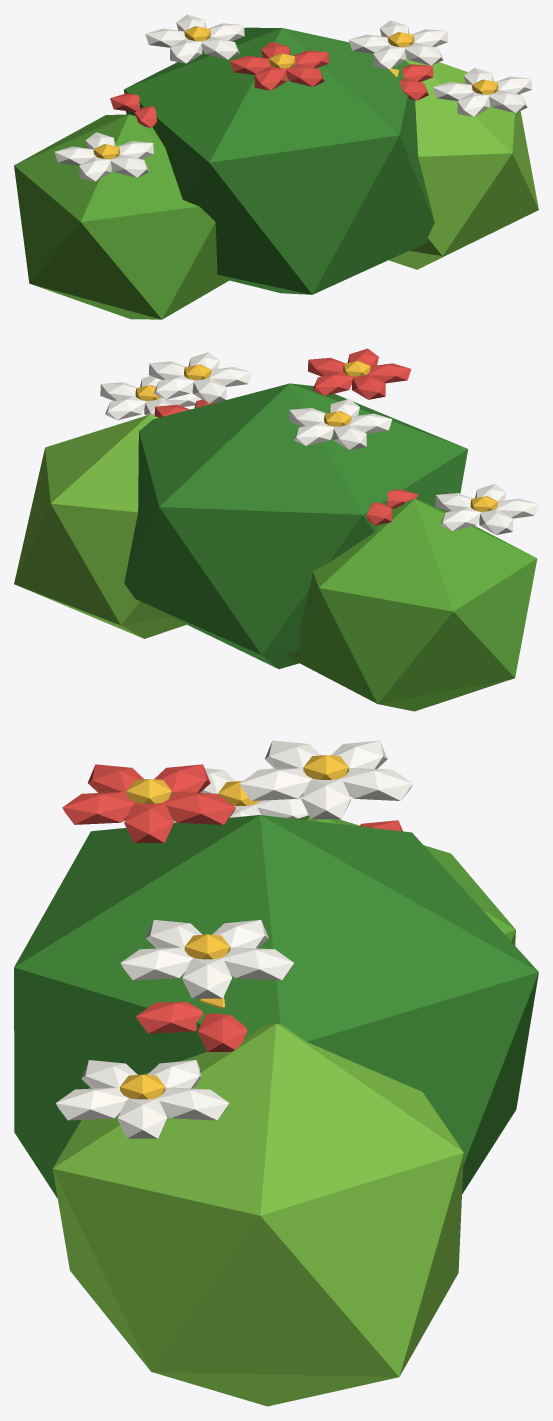
Rendered from shrub_flowering.glb.
3 renders of one model, top to bottom at view 1: azimuth 30°, elevation 25°; view 2: azimuth 150°, elevation 25°; view 3: azimuth 270°, elevation 25°, orthographic. The views are drawn at different scales.
Parts seen in each view (by area): view 1: part_top, shrub_flowering; view 2: part_top, shrub_flowering; view 3: part_top, shrub_flowering.
Part boxes in pixels (x1=…): part_top: x1=14, y1=14, x2=538, y2=319; shrub_flowering: x1=124, y1=27, x2=434, y2=294; part_top: x1=14, y1=348, x2=538, y2=711; shrub_flowering: x1=124, y1=383, x2=467, y2=668; part_top: x1=52, y1=740, x2=515, y2=1406; shrub_flowering: x1=14, y1=815, x2=538, y2=1198.
Bounding box in the file's own units: 0.8902 × 0.5121 × 0.5015.
